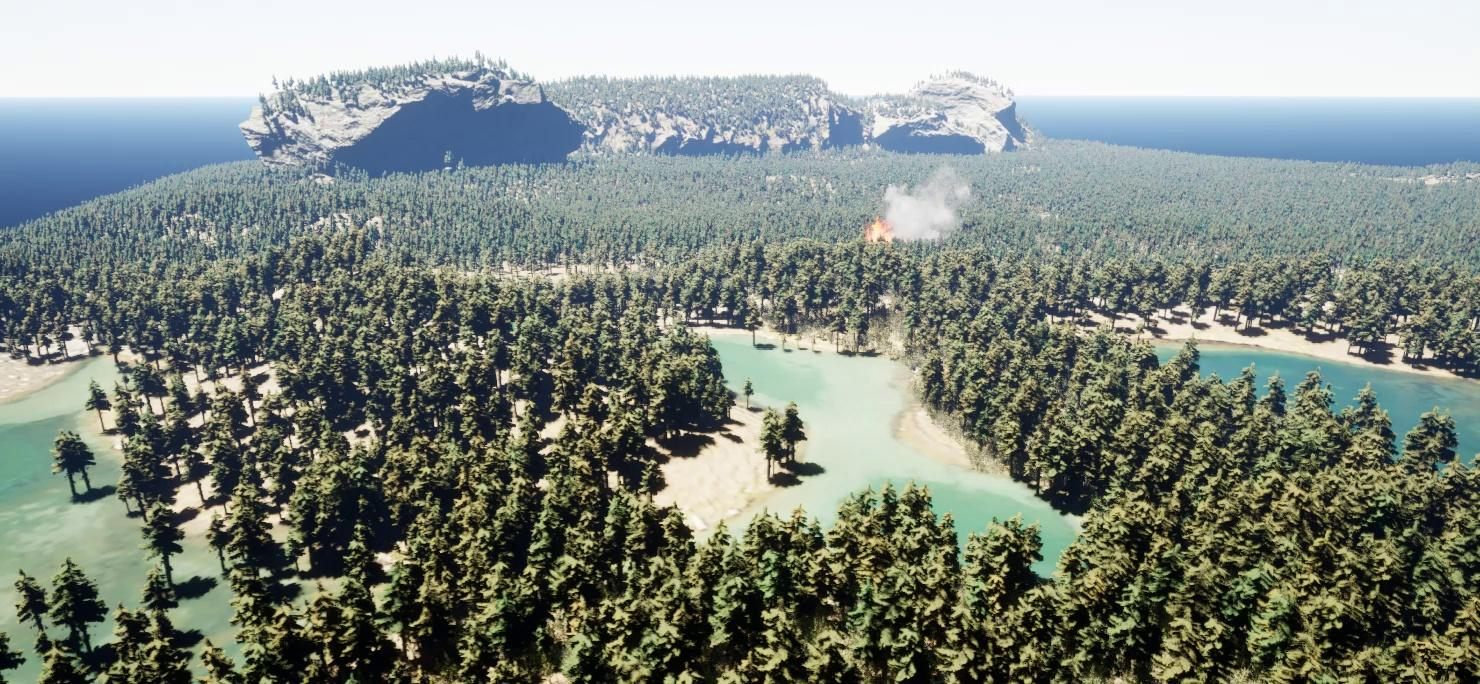fire: (864, 224, 888, 245)
smoke: (885, 170, 977, 247)
